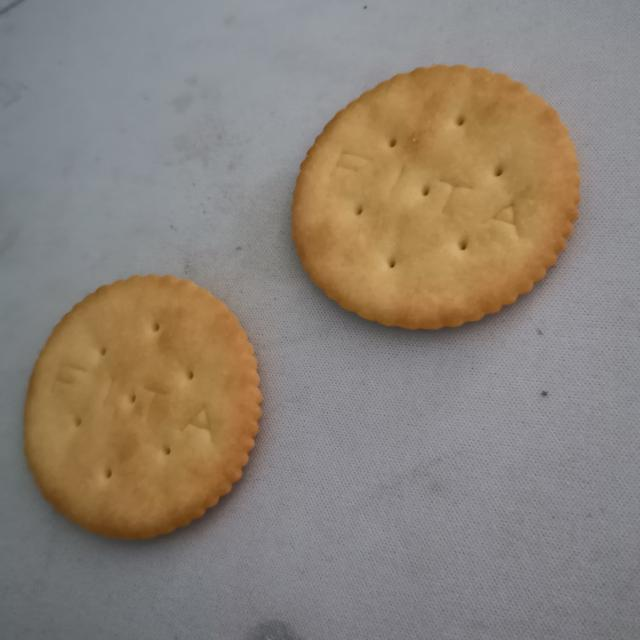Intact: (282, 59, 595, 341), (14, 262, 278, 554)
